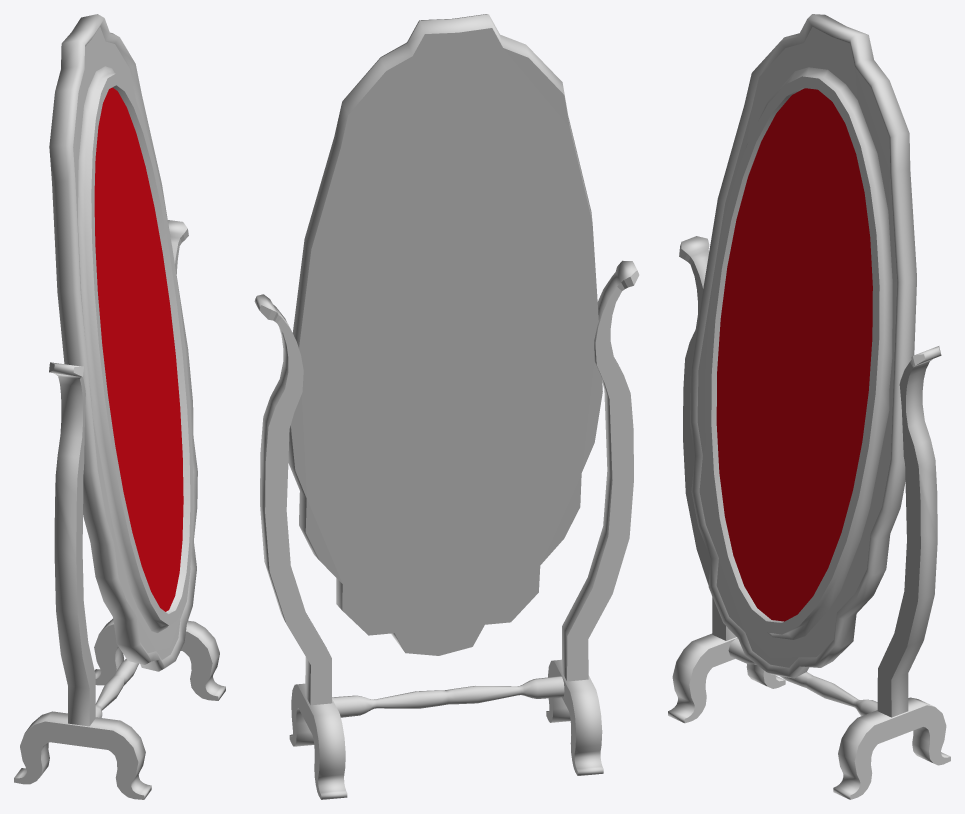
The model's file is bedroomMirror.fbx.
The picture shows the model from 3 angles, left to right: view 1: azimuth 30°, elevation 25°; view 2: azimuth 150°, elevation 25°; view 3: azimuth 270°, elevation 25°; orthographic projection. The views are drawn at different scales.
Parts seen in each view (by area): view 1: mirror; view 2: mirror; view 3: mirror.
Boxes of the visible parts, x1=… form: mirror: x1=14, y1=14, x2=225, y2=799; mirror: x1=254, y1=14, x2=639, y2=799; mirror: x1=668, y1=14, x2=950, y2=799.
Size of the model in its own units: 71.74 by 191 by 69.63.
